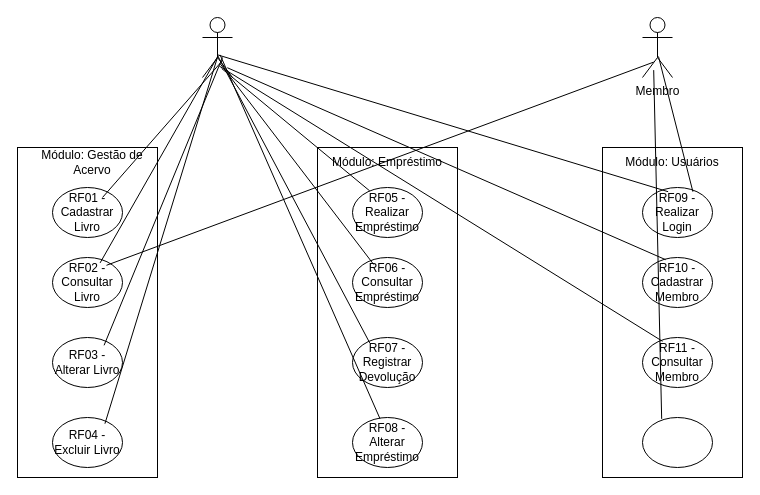
The diagram is 760 pixels wide and 495 high, and some of its shapes have lost their labels. The shapes that lost their labels are listed below. From the top down, each one's box as (x1, y1, x2, y2) in pixels, then its label:
(202, 16, 232, 78): Bibliotecário
(642, 416, 712, 468): RF12 - Consultar Hisórico Pessoal
